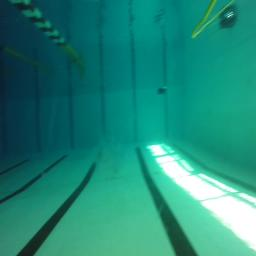Full: (219, 14, 238, 27), (158, 87, 166, 93)
